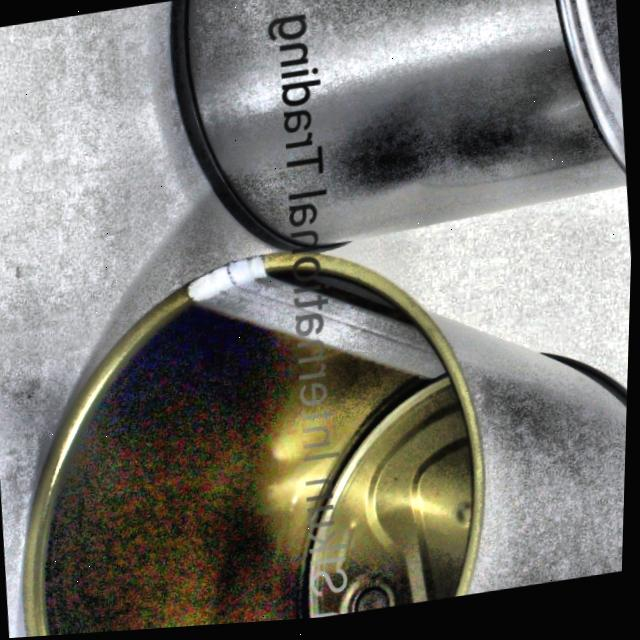metal: (0, 194, 635, 640), (155, 0, 637, 307)
